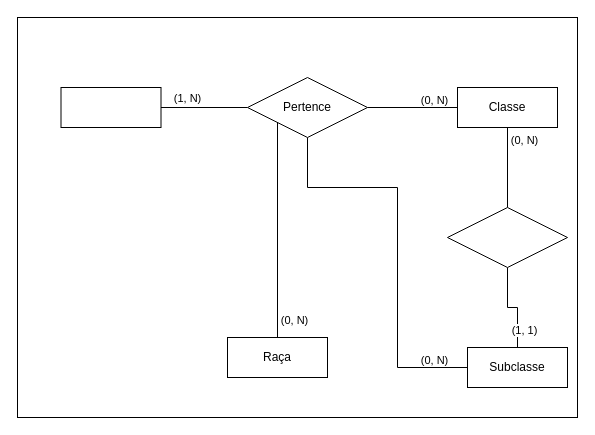
This 595x435 diagram has some shape labels left out. The shapes that lost their labels are listed below. From the top down, each one's centre as x and y in pixels, then its label:
At point (110, 107): "Magia".
At point (507, 237): "Possuí".
